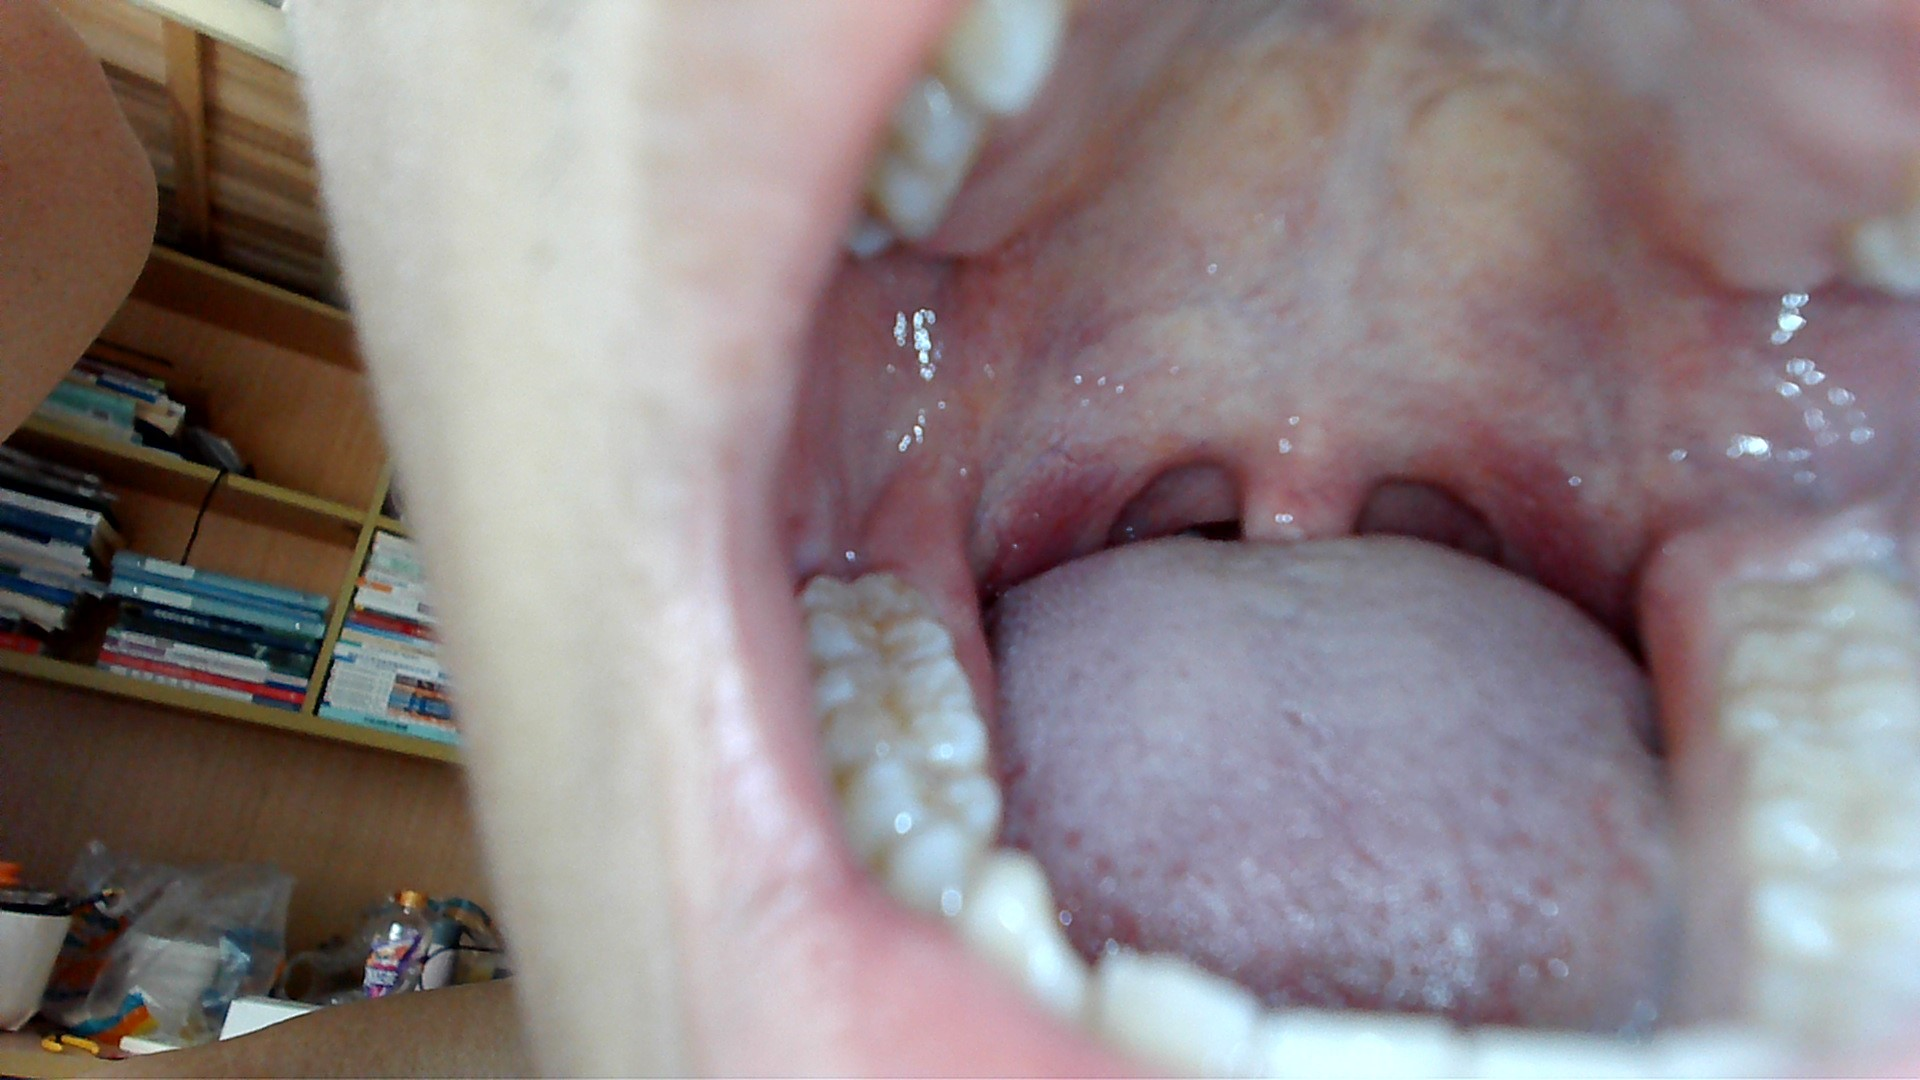throat: (1478, 436, 1571, 568), (1069, 436, 1150, 556)
